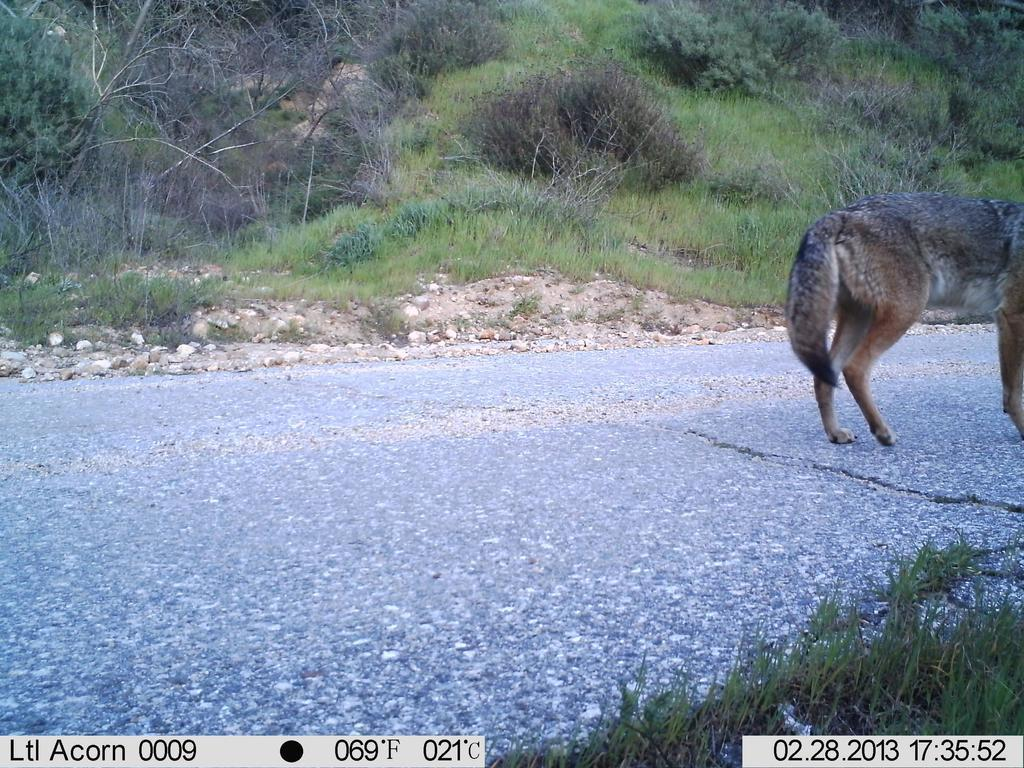coyote: (775, 165, 1023, 457)
